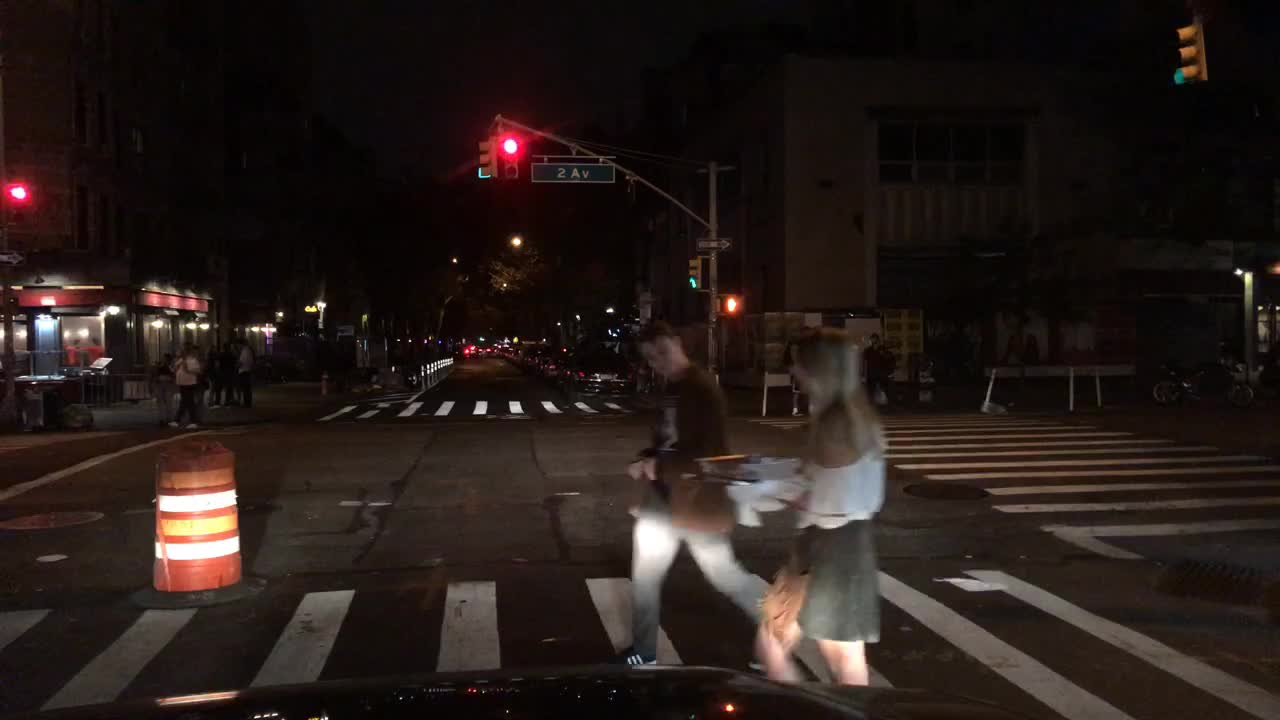car: (563, 344, 636, 402), (554, 343, 612, 384), (538, 344, 577, 376), (525, 344, 557, 372), (511, 341, 538, 367), (471, 343, 495, 360), (503, 341, 520, 360), (453, 343, 471, 360), (494, 343, 506, 355)
motor: (1153, 343, 1257, 407)
person: (616, 323, 838, 684), (755, 331, 888, 683), (785, 319, 819, 419), (168, 344, 205, 430), (863, 331, 896, 412), (235, 334, 255, 407), (188, 343, 209, 407), (153, 355, 172, 419), (221, 338, 235, 409), (203, 343, 218, 406)
traffic light: (1172, 24, 1206, 84), (499, 136, 523, 181), (477, 141, 497, 179), (4, 182, 32, 203), (687, 257, 704, 291), (717, 294, 743, 314)
traffic sign: (531, 162, 615, 182), (0, 249, 26, 265), (698, 239, 731, 249), (508, 332, 520, 343)
